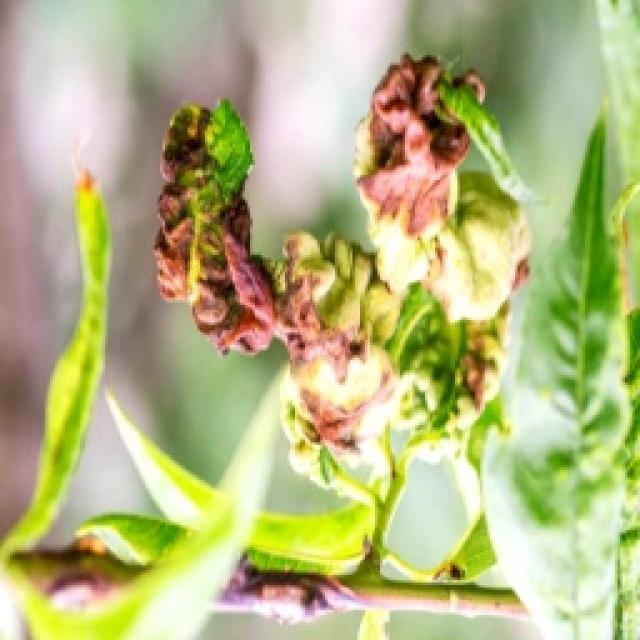peach_leaf_curl: (150, 47, 532, 485)
